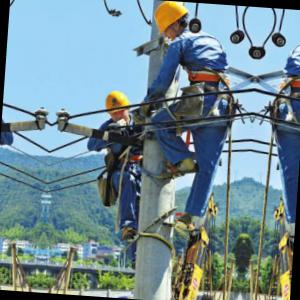helmet: (151, 2, 192, 43), (101, 88, 134, 126)
